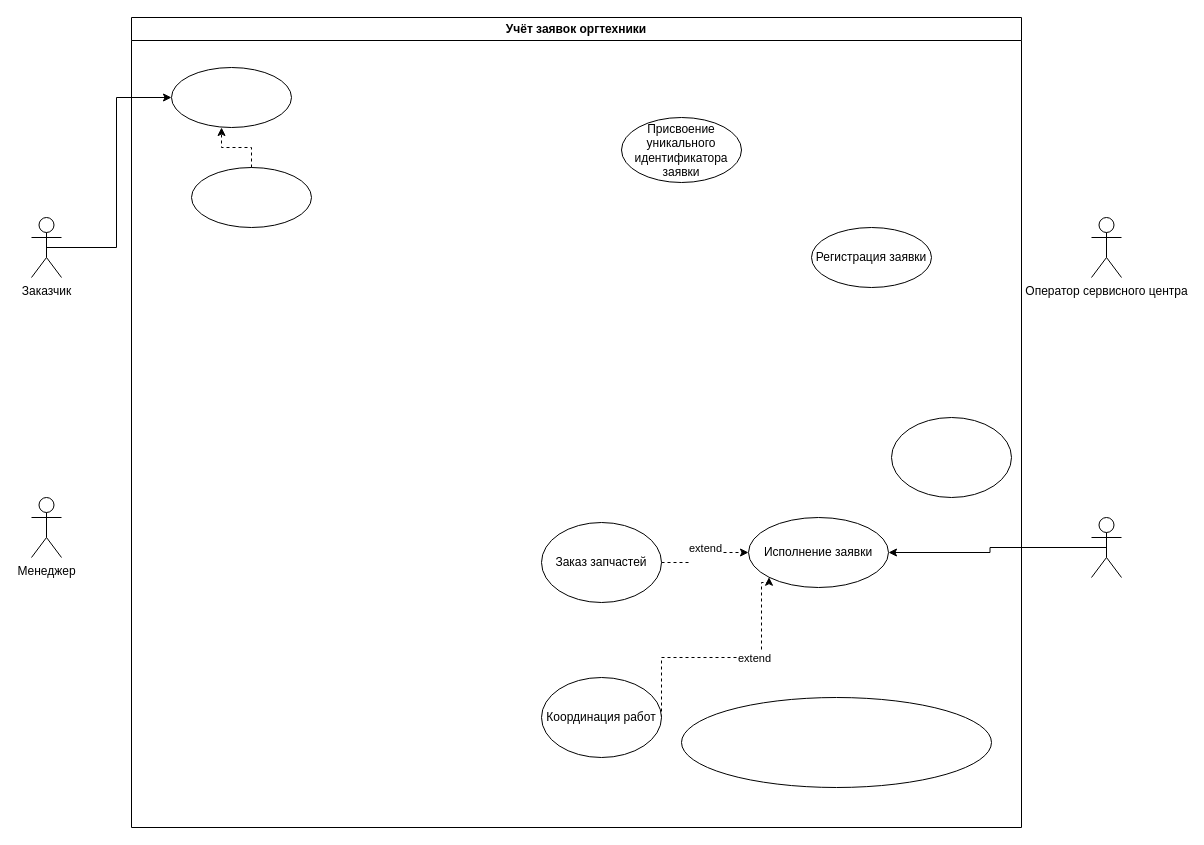
The diagram is 1204 pixels wide and 845 high, and some of its shapes have lost their labels. Here are the shapes that lost their labels. From the top down, the centre of each, then its label:
At point 231,97: "Оставляет заявку".
At point 251,197: "Редактирование заявки".
At point 951,457: "Предоставить отчёт".
At point 1106,547: "Мастер".
At point 836,742: "просмотреть все свои заявки (поиск по id):".
